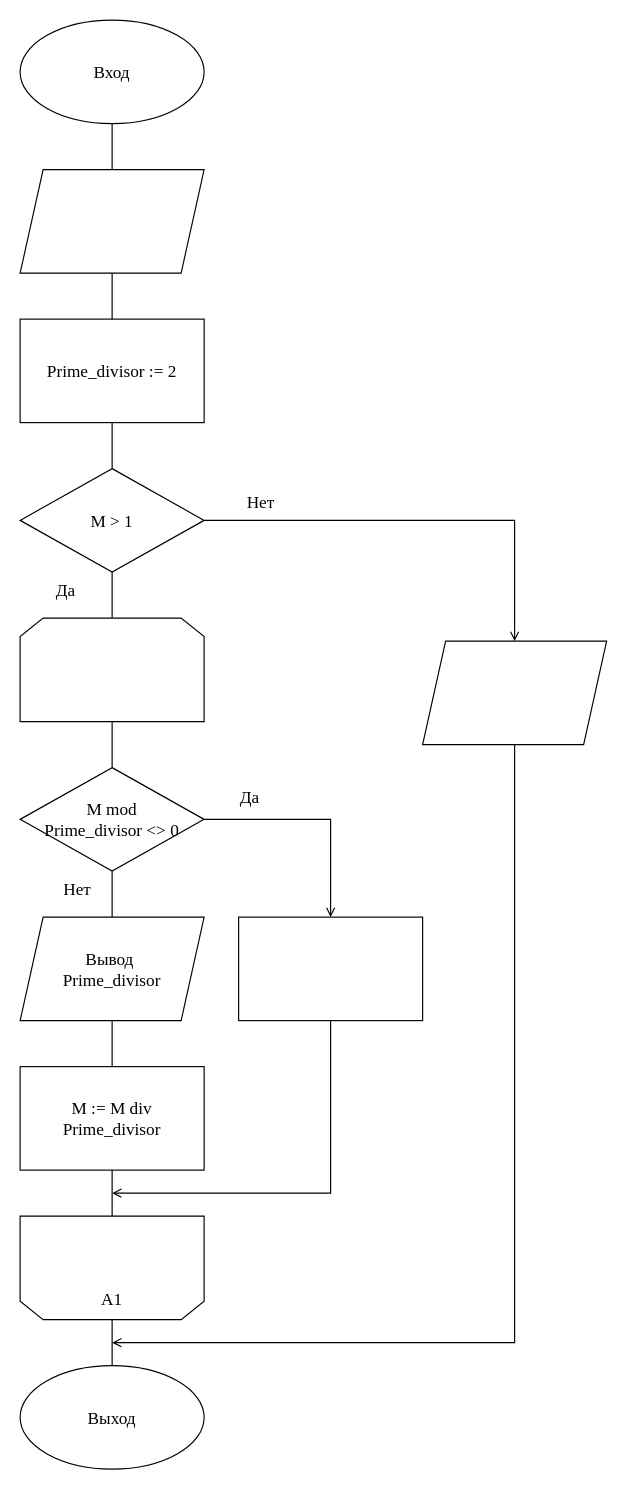
Some shapes in this 627 by 1489 pixel diagram are drawn without their labels. The shapes that lost their labels are listed below. From the top down, each one's centre as x and y in pixels, then its label:
point (111, 220): Ввод M
point (111, 669): A1 M > 1
point (514, 692): Вывод "Простых делителей нет"
point (330, 968): Prime_divisor := Prime_divisor + 1
